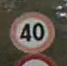limite 40: (5, 11, 57, 54)
